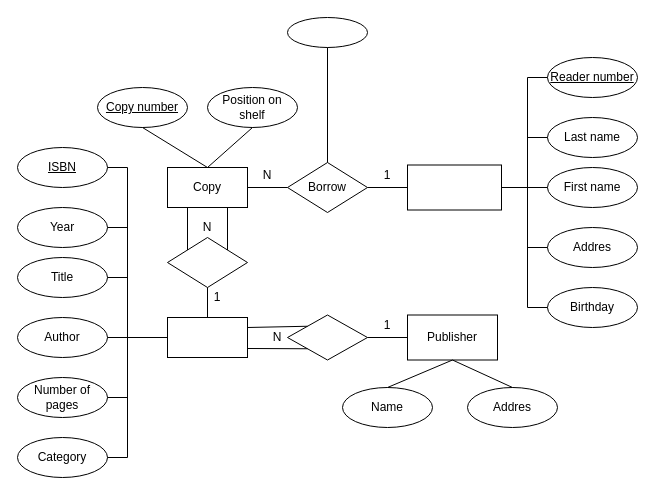
This 655x495 diagram has some shape labels left out. Each missing label, with the box of its shape:
Book: (166, 316, 248, 358)
Is: (166, 236, 248, 288)
Of: (286, 314, 368, 360)
Reader: (406, 164, 502, 210)
Return date: (286, 16, 368, 48)
